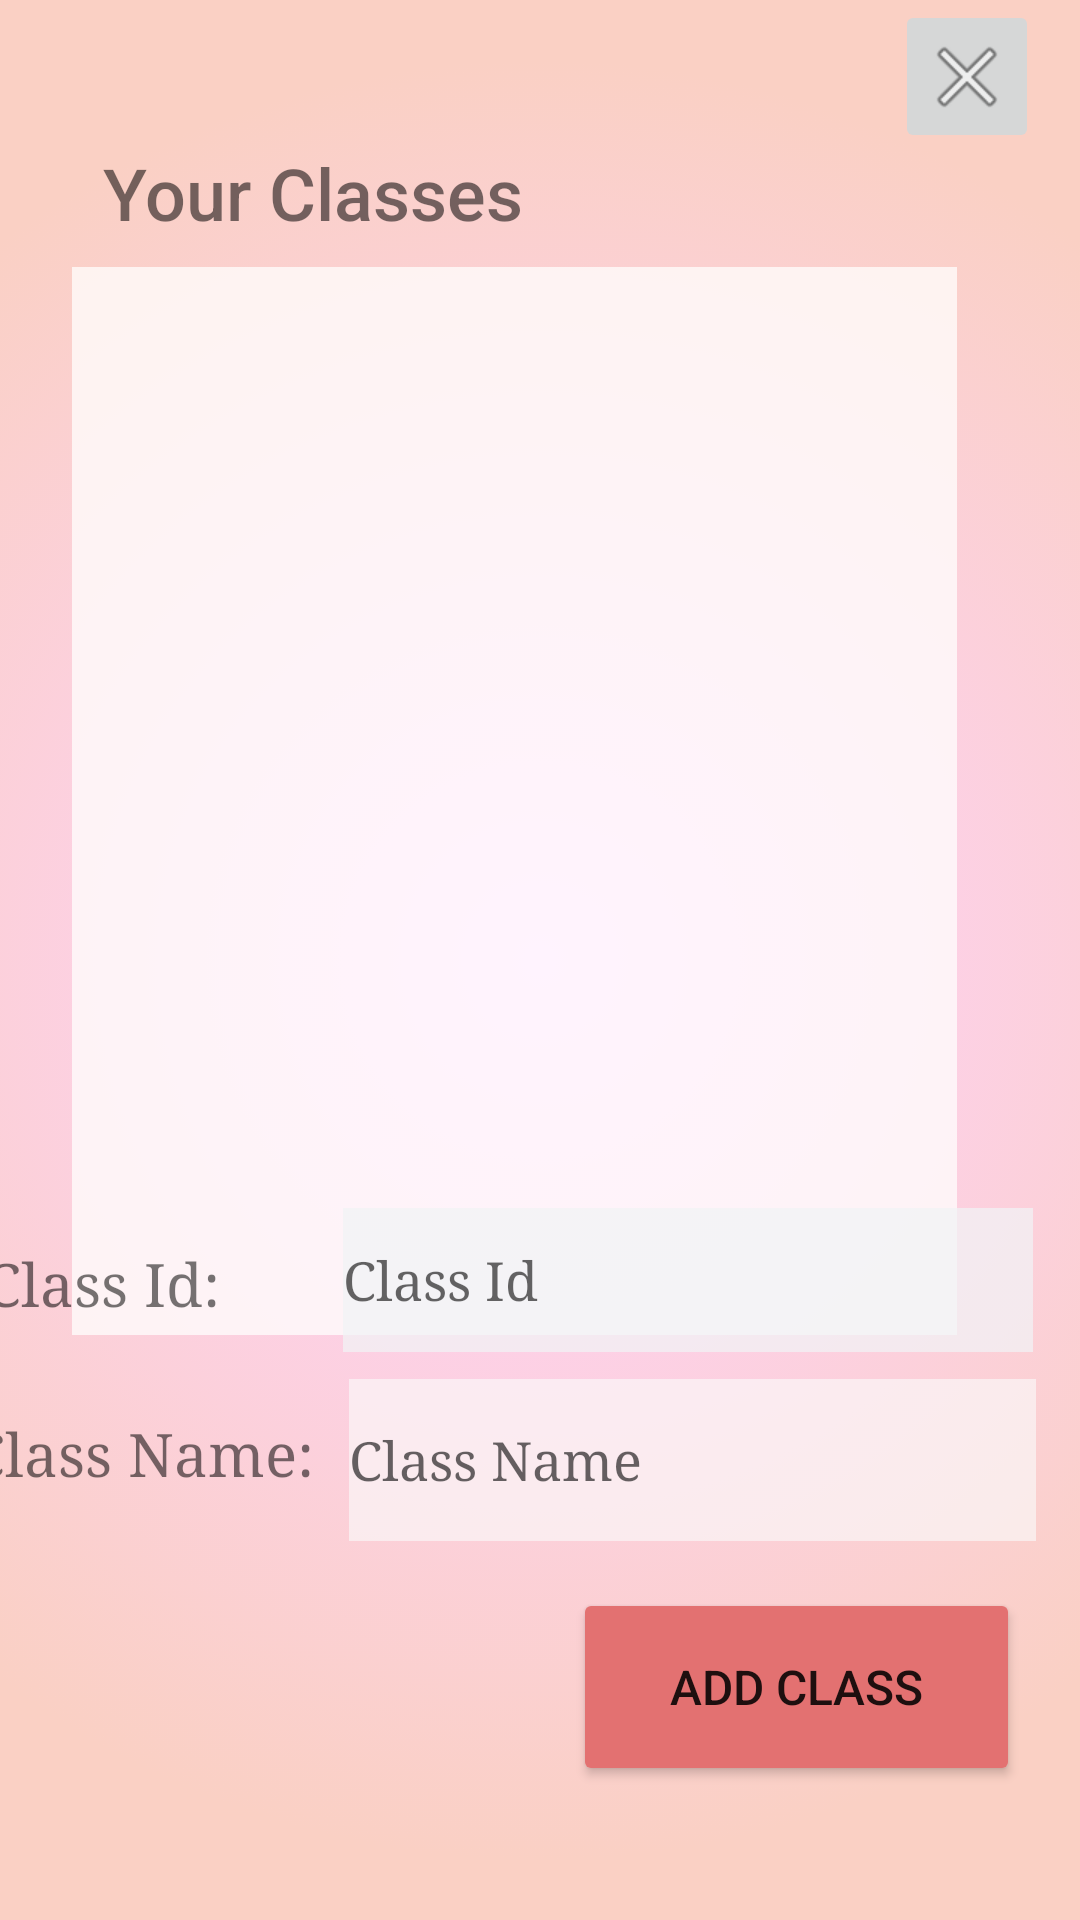

Screen size 1080 × 1920. Icon name, then its center in pixels as [x,y]:
close clear cancel: [967,76]
